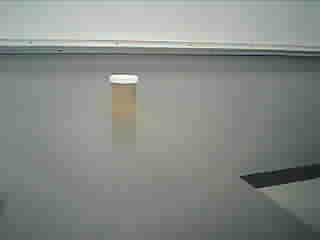Bottle B: (102, 70, 142, 123)
